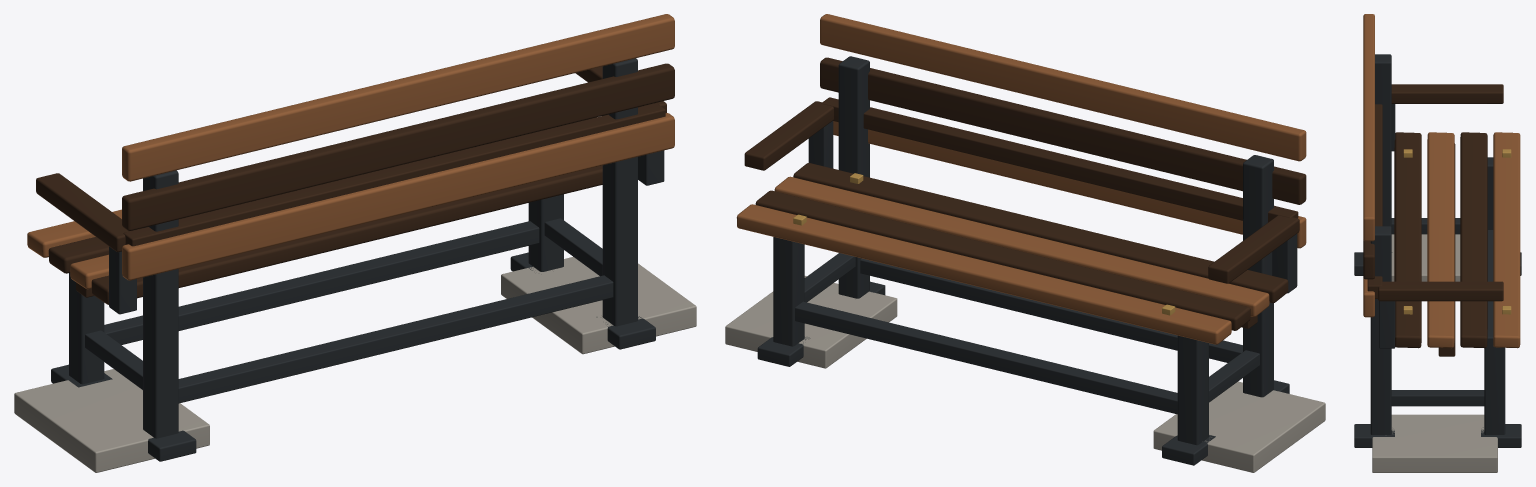
Rendered from sakura-bench.glb.
The picture shows the model from 3 angles, left to right: view 1: azimuth 30°, elevation 25°; view 2: azimuth 150°, elevation 25°; view 3: azimuth 270°, elevation 25°; orthographic projection. The views are drawn at different scales.
Visible parts, largest first — view 1: Bench / Cast iron, Bench / Bench smoked, Bench / Bench cedar, Bench / Concrete pad; view 2: Bench / Bench smoked, Bench / Bench cedar, Bench / Cast iron, Bench / Concrete pad; view 3: Bench / Bench smoked, Bench / Bench cedar, Bench / Cast iron, Bench / Concrete pad, Bench / Worn brass.
Boxes of the visible parts, x1=… form: Bench / Cast iron: x1=51, y1=58, x2=664, y2=461; Bench / Bench smoked: x1=36, y1=63, x2=674, y2=304; Bench / Bench cedar: x1=27, y1=14, x2=674, y2=289; Bench / Concrete pad: x1=14, y1=257, x2=696, y2=472; Bench / Bench smoked: x1=744, y1=57, x2=1306, y2=330; Bench / Bench cedar: x1=736, y1=14, x2=1306, y2=344; Bench / Cast iron: x1=757, y1=56, x2=1297, y2=465; Bench / Concrete pad: x1=725, y1=276, x2=1325, y2=472; Bench / Bench smoked: x1=1363, y1=84, x2=1503, y2=356; Bench / Bench cedar: x1=1363, y1=14, x2=1520, y2=348; Bench / Cast iron: x1=1354, y1=54, x2=1521, y2=447; Bench / Concrete pad: x1=1372, y1=234, x2=1497, y2=472; Bench / Worn brass: x1=1403, y1=149, x2=1511, y2=314.
Size of the model in its own units: 1.78 by 0.905 by 0.56.
